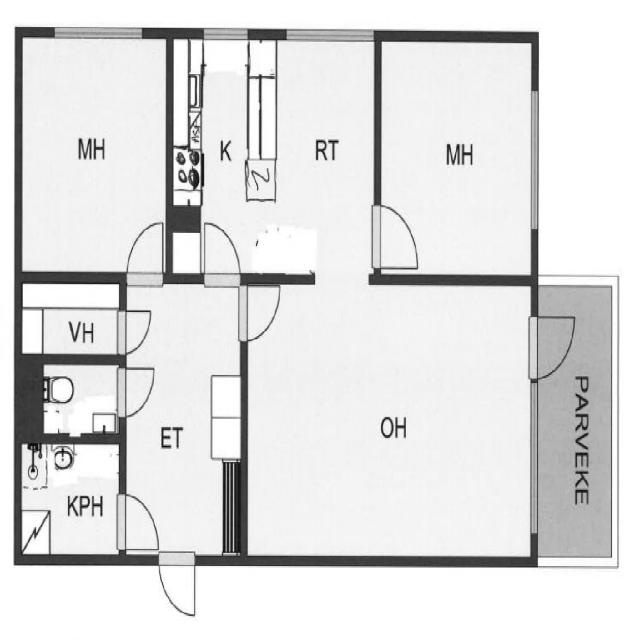door: (372, 203, 418, 273), (243, 280, 286, 345), (534, 316, 575, 382), (156, 559, 201, 616), (202, 215, 239, 280), (123, 492, 161, 554), (126, 220, 162, 279), (124, 362, 155, 420), (122, 308, 156, 349)
window: (284, 24, 371, 43), (529, 378, 539, 535), (530, 89, 540, 230), (56, 28, 146, 43), (199, 24, 253, 43)
zone: (241, 279, 536, 565), (171, 39, 373, 277), (381, 35, 534, 275), (24, 37, 168, 277), (121, 276, 239, 562), (18, 439, 120, 558), (42, 361, 117, 434)
